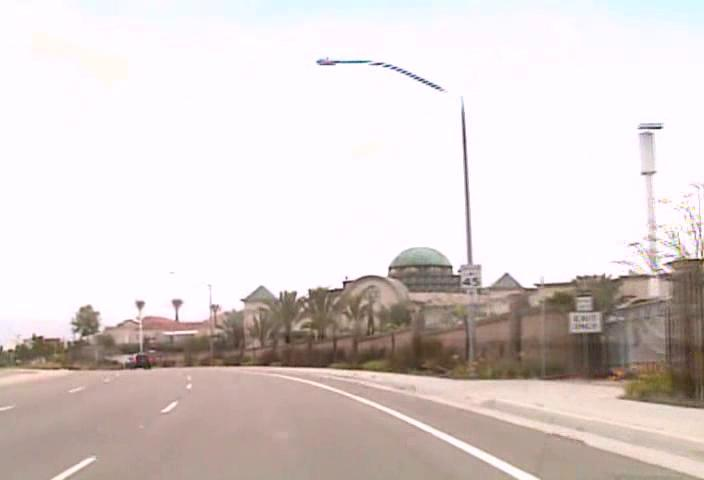speedLimit45: (459, 263, 482, 288)
